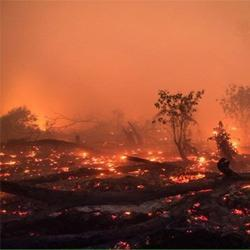fire: (69, 148, 129, 168), (193, 152, 206, 172), (171, 177, 198, 186)
